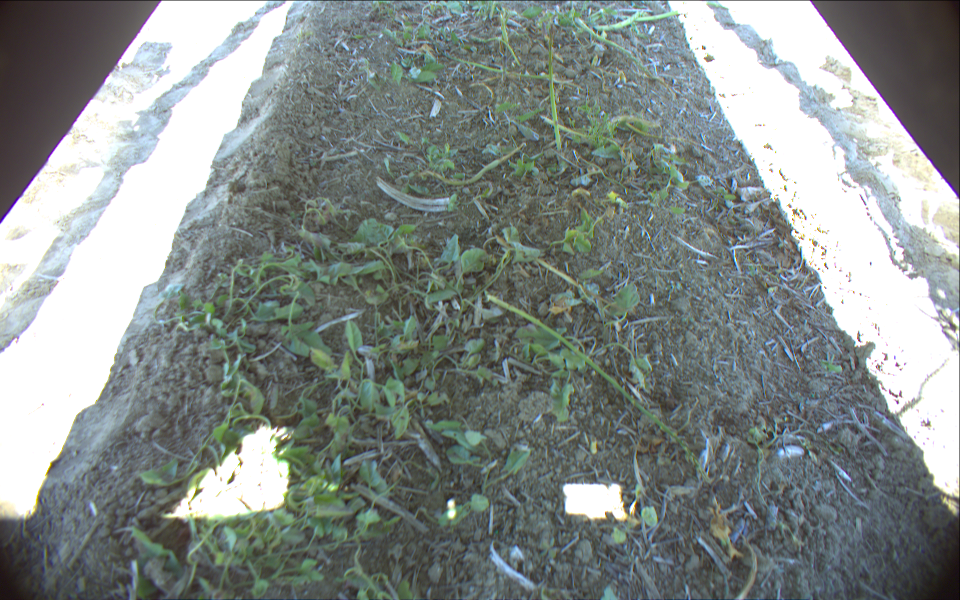aspa: (540, 21, 571, 155)
